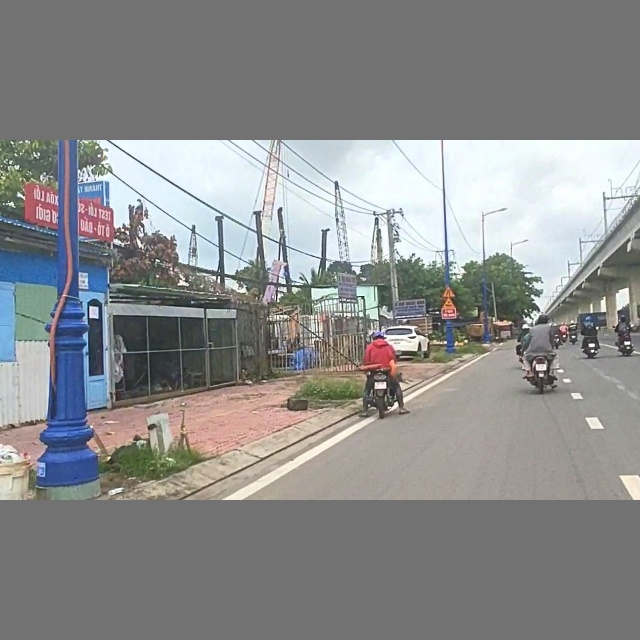W.203c: (441, 285, 455, 297)
W.245a: (441, 297, 455, 309)
